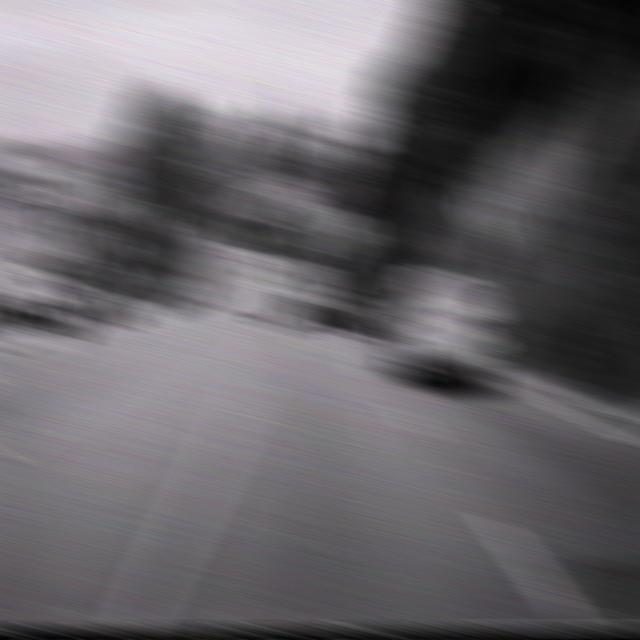pedestrianCrossing: (463, 183, 508, 242)
